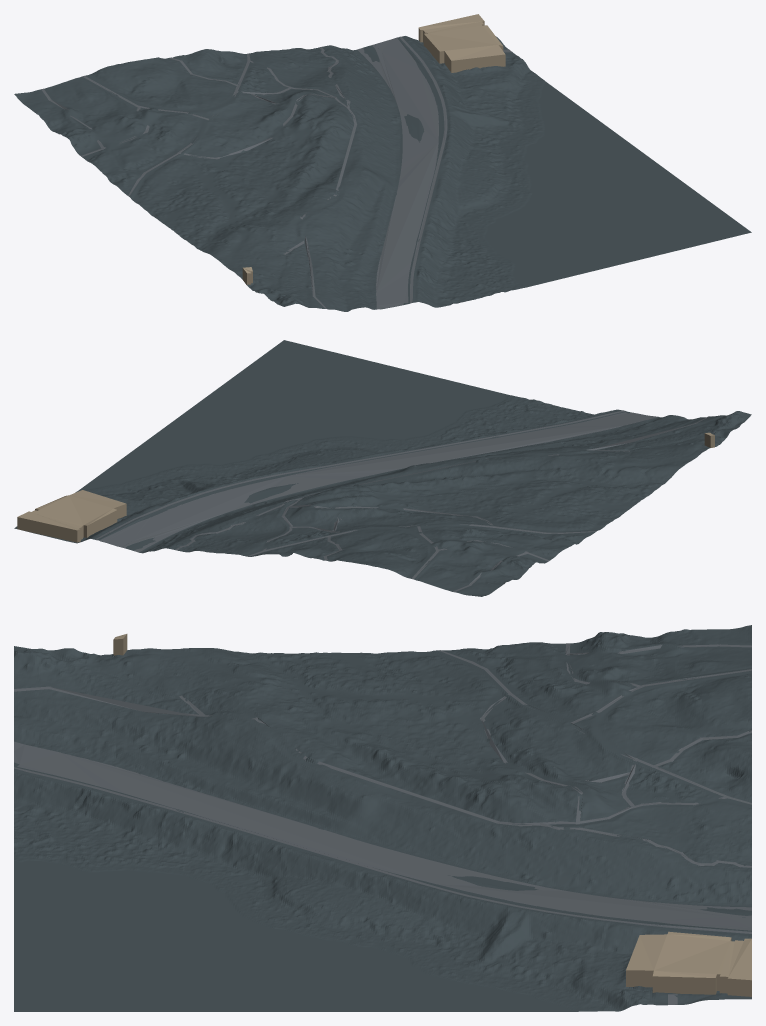
File: epsg26910-1416-10872.lod0.glb
3 views of the same model, one above another, from view 1: azimuth 30°, elevation 25°; view 2: azimuth 150°, elevation 25°; view 3: azimuth 270°, elevation 25° (orthographic). The views are drawn at different scales.
Visible parts, largest first — view 1: epsg26910-1416-10872-lod0; view 2: epsg26910-1416-10872-lod0; view 3: epsg26910-1416-10872-lod0.
Boxes of the visible parts, x1,y1,x2,y2 form: epsg26910-1416-10872-lod0: (14, 14, 751, 311); epsg26910-1416-10872-lod0: (14, 340, 751, 596); epsg26910-1416-10872-lod0: (14, 625, 751, 1011).
Bounding box in the file's own units: 384 × 46.75 × 384.
